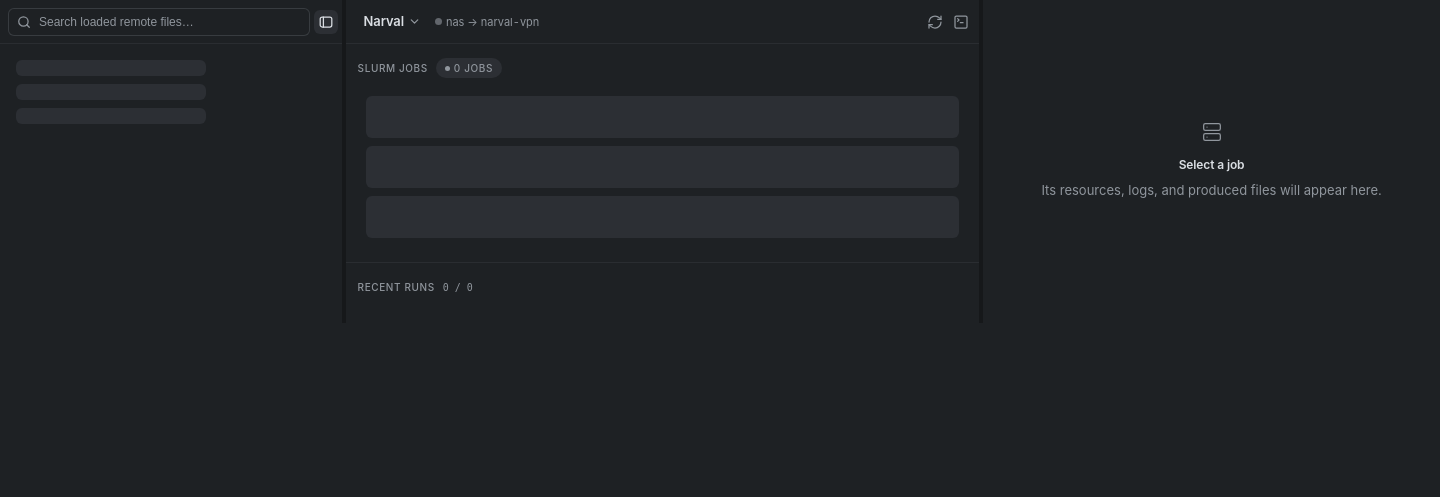
Test: NarvalSurface › loads status, jobs, and inspects the first active Slurm job
The width and height of the screenshot is (1440, 497).
Click the button named "Hide file explorer" at point(326, 22), box [314, 10, 338, 34]
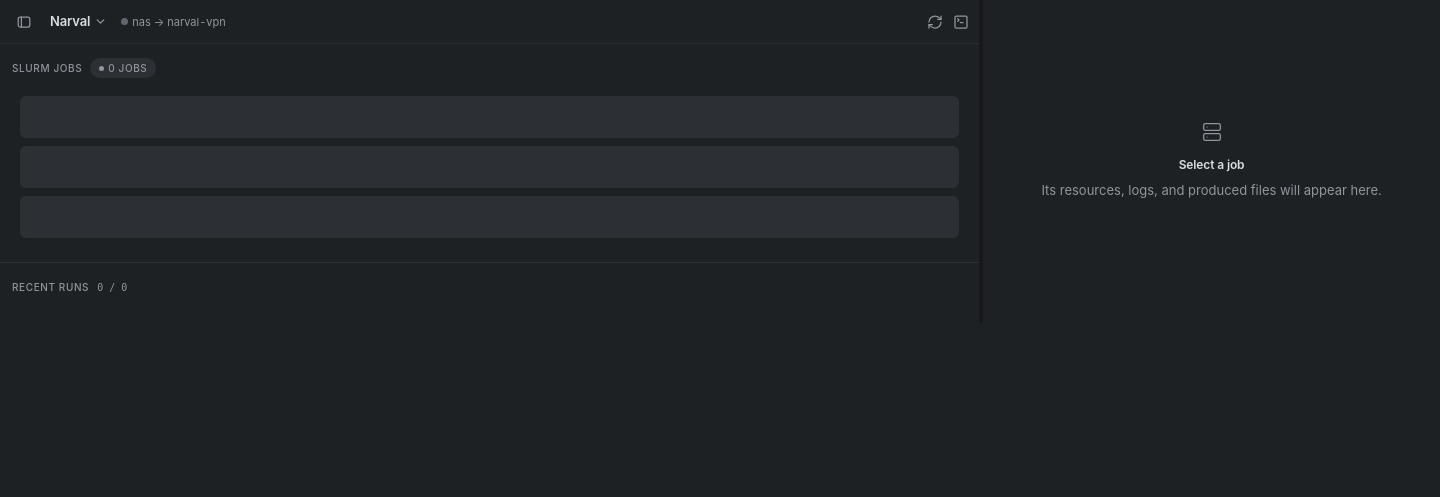
expect the element with class "narval-surface" has attribute data-files-open="false": met
Click the button named "Show file explorer" at point(24, 22), box [12, 10, 36, 34]
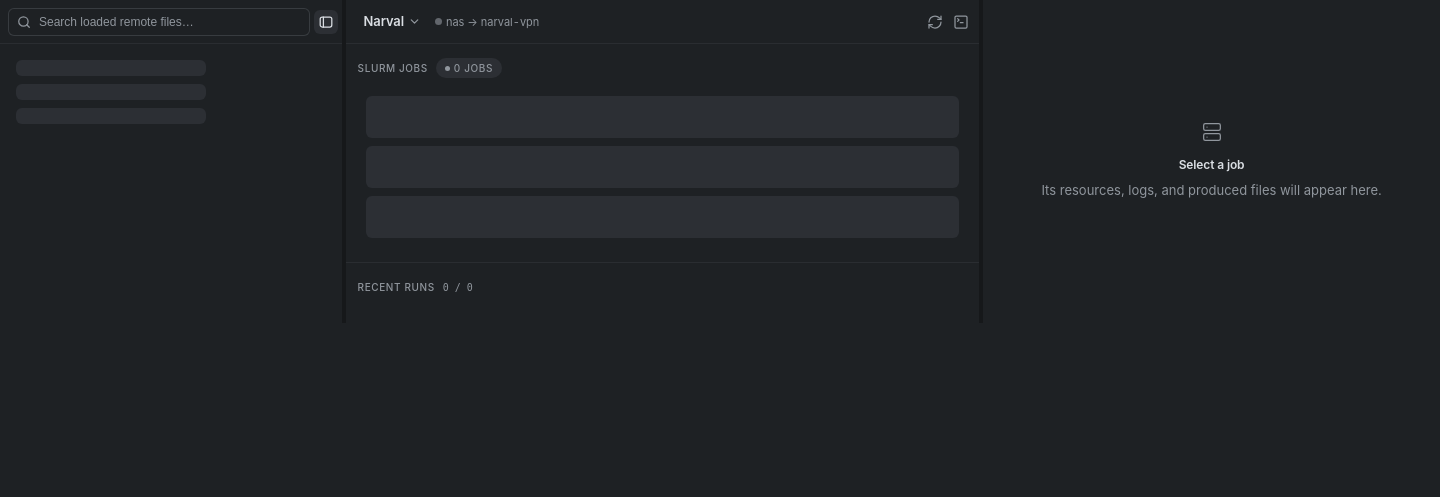
expect the element with class "narval-surface" has attribute data-files-open="true": met
Click the button named "terminal" at point(961, 22), box [949, 10, 973, 34]
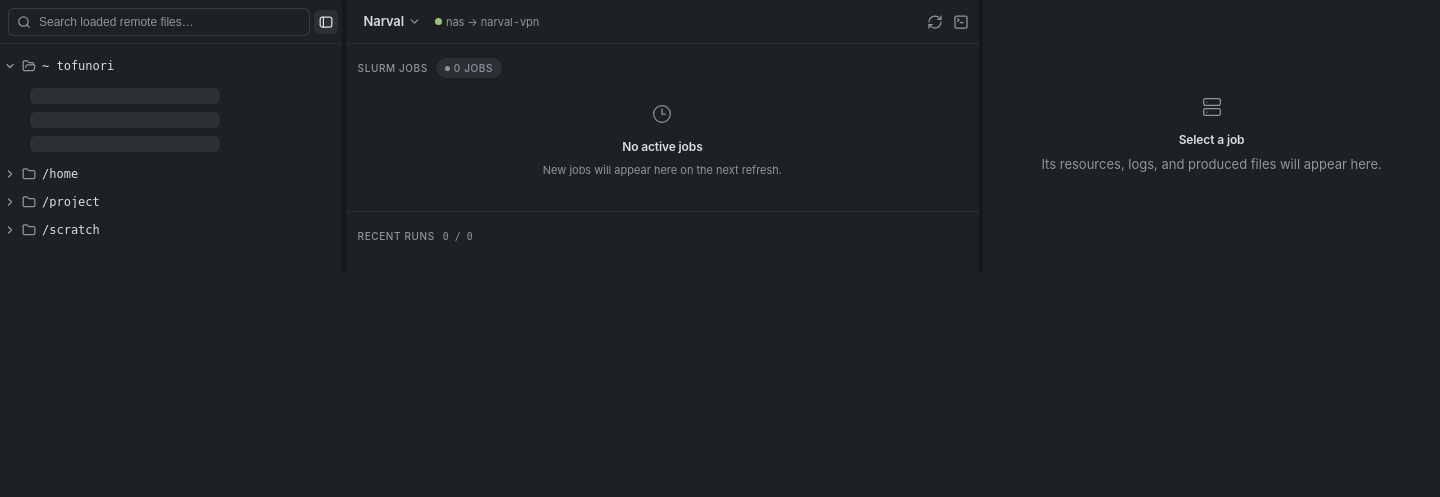
Click the button named "terminal" at point(961, 22), box [949, 10, 973, 34]
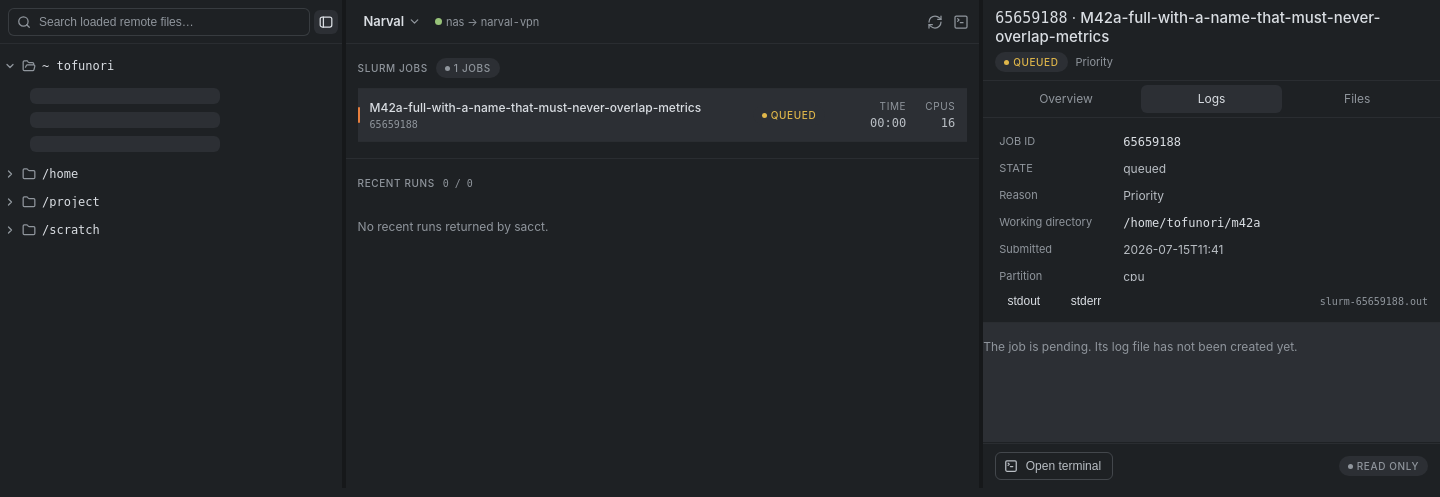
expect the text titled "M42a-full-with-a-name-that-must-never-overlap-metrics" below "Slurm jobs" is shown: met, box [370, 100, 741, 115]
expect the text "The job is pending. Its log file has not been created yet." is shown: met, box [983, 338, 1298, 354]
Click the tab "Files" at point(1357, 99), box [1286, 85, 1428, 113]
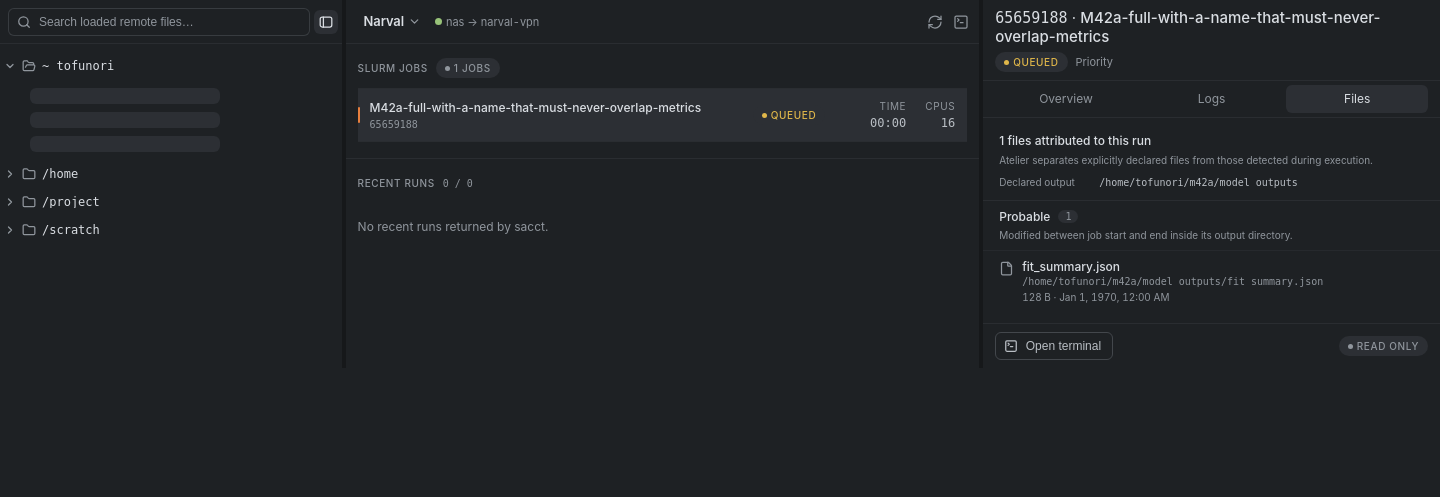
expect the text "fit_summary.json" is shown: met, box [1022, 259, 1120, 274]
expect the text "Probable" is shown: met, box [999, 208, 1050, 224]
